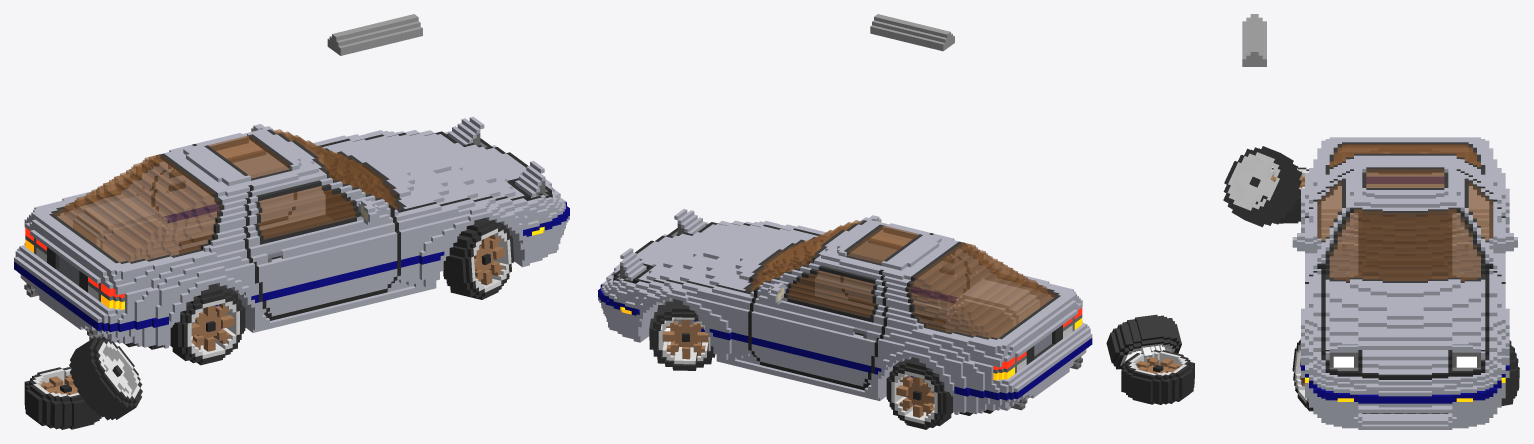
File: fc3sbetaRoom1.gltf
3 renders of one model, left to right at view 1: azimuth 30°, elevation 25°; view 2: azimuth 150°, elevation 25°; view 3: azimuth 270°, elevation 25°, orthographic. The views are drawn at different scales.
Parts seen in each view (by area): view 1: body, glass, spares2, spares, tyres.002, rims, case, tyres, rims.002; view 2: body, glass, spares, spares2, rims.001, rims, case, tyres, tyres.001; view 3: body, glass, spares2, case, tyres.001, spares, lightbright, rims.002.
Part boxes in pixels (x1=…): body: x1=14, y1=116, x2=569, y2=349; glass: x1=53, y1=129, x2=400, y2=262; spares2: x1=69, y1=336, x2=142, y2=420; spares: x1=24, y1=367, x2=101, y2=429; tyres.002: x1=443, y1=217, x2=514, y2=299; rims: x1=187, y1=299, x2=239, y2=358; case: x1=327, y1=14, x2=422, y2=55; tyres: x1=170, y1=283, x2=245, y2=365; rims.002: x1=471, y1=228, x2=511, y2=292; body: x1=598, y1=209, x2=1092, y2=415; glass: x1=749, y1=220, x2=1056, y2=338; spares: x1=1121, y1=350, x2=1194, y2=404; spares2: x1=1106, y1=314, x2=1181, y2=370; rims.001: x1=658, y1=317, x2=710, y2=364; rims: x1=891, y1=371, x2=937, y2=424; case: x1=870, y1=14, x2=954, y2=51; tyres: x1=886, y1=357, x2=953, y2=429; tyres.001: x1=649, y1=299, x2=715, y2=370; body: x1=1292, y1=137, x2=1517, y2=429; glass: x1=1317, y1=144, x2=1493, y2=281; spares2: x1=1223, y1=146, x2=1302, y2=227; case: x1=1242, y1=14, x2=1266, y2=66; tyres.001: x1=1501, y1=340, x2=1519, y2=405; spares: x1=1255, y1=166, x2=1308, y2=223; lightbright: x1=1333, y1=356, x2=1476, y2=367; rims.002: x1=1294, y1=342, x2=1308, y2=403.
Bounding box in the file's own units: 15.13 × 8.42 × 7.25.
Materials: 14 (13 with a texture image).
